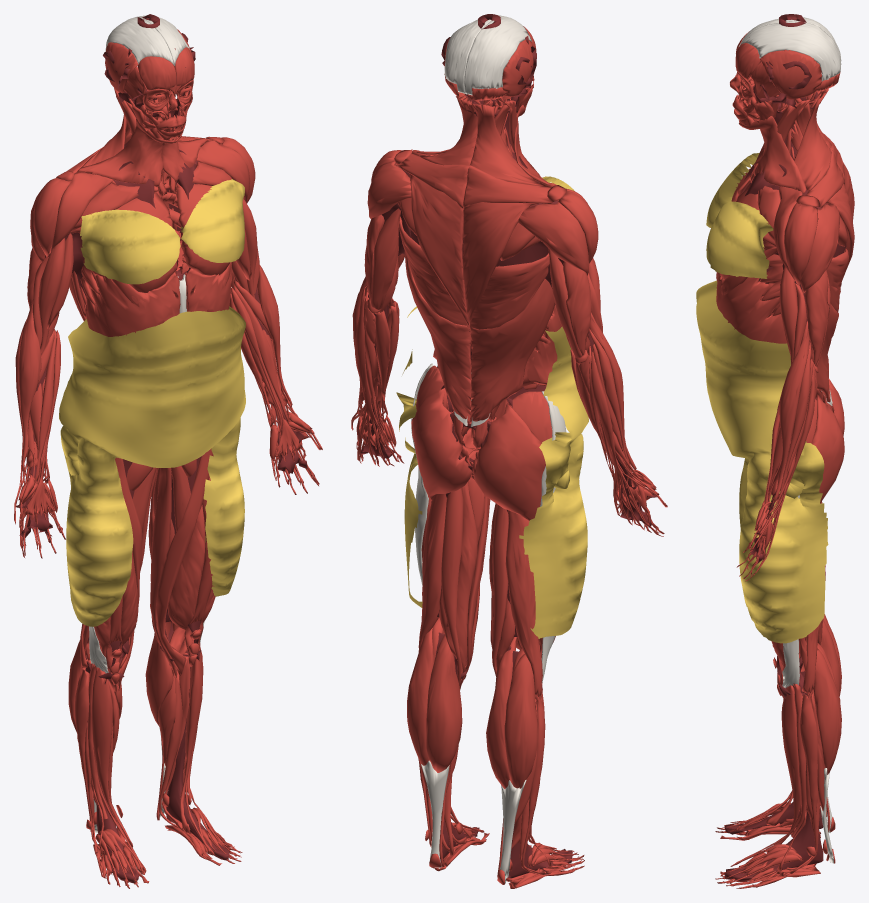
Rendered from anatomy_160k.glb.
The picture shows the model from 3 angles, left to right: view 1: azimuth 30°, elevation 25°; view 2: azimuth 150°, elevation 25°; view 3: azimuth 270°, elevation 25°; orthographic projection. The views are drawn at different scales.
Visible parts, largest first — view 1: muscle, fat, shell, white; view 2: muscle, fat, white, shell; view 3: muscle, fat, shell, white.
Part boxes in pixels (x1=…): muscle: x1=14, y1=29, x2=322, y2=888; fat: x1=59, y1=179, x2=245, y2=626; shell: x1=16, y1=14, x2=311, y2=883; white: x1=89, y1=15, x2=204, y2=832; muscle: x1=351, y1=26, x2=667, y2=888; fat: x1=396, y1=176, x2=588, y2=638; white: x1=411, y1=15, x2=566, y2=883; shell: x1=361, y1=14, x2=656, y2=878; muscle: x1=715, y1=32, x2=854, y2=888; fat: x1=696, y1=153, x2=828, y2=643; shell: x1=724, y1=14, x2=846, y2=881; white: x1=739, y1=17, x2=841, y2=863.
Bounding box in the file's own units: 0.6595 × 1.71 × 0.292.
